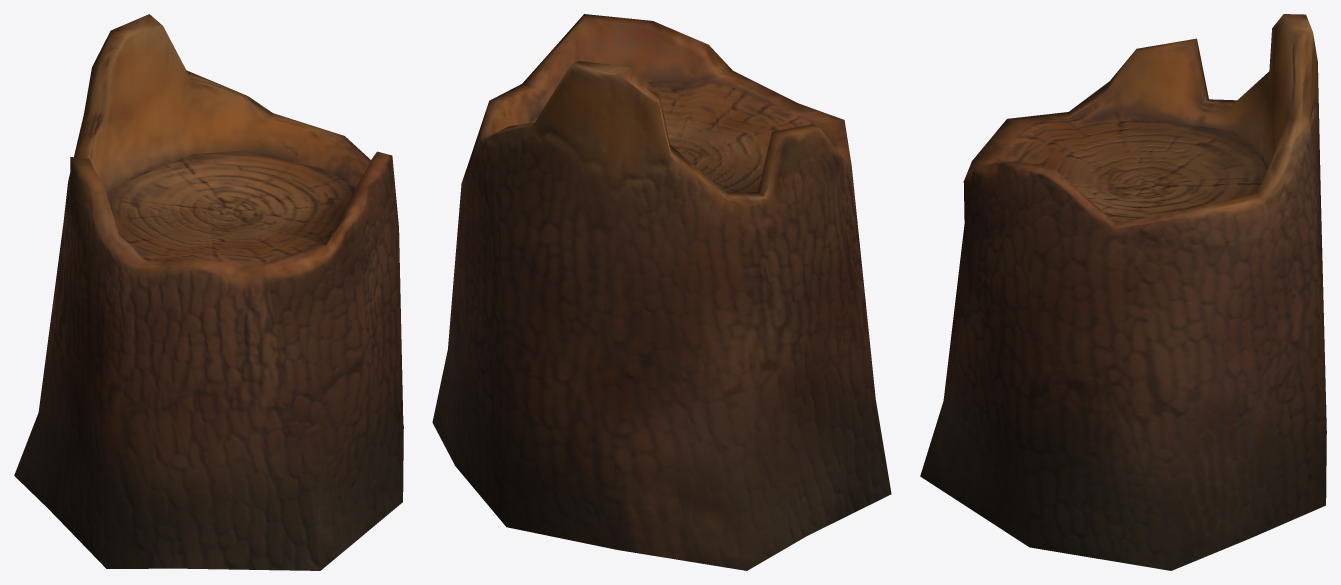
Rendered from stump.FBX.
3 views of the same model, side by side, from view 1: azimuth 30°, elevation 25°; view 2: azimuth 150°, elevation 25°; view 3: azimuth 270°, elevation 25° (orthographic). The views are drawn at different scales.
Parts seen in each view (by area): view 1: stump; view 2: stump; view 3: stump.
Part boxes in pixels (box(x1,y1,x2,y2)): stump: box(14, 14, 403, 570); stump: box(432, 14, 891, 570); stump: box(920, 14, 1326, 570).
Bounding box in the file's own units: 55.46 × 64.47 × 51.83.
